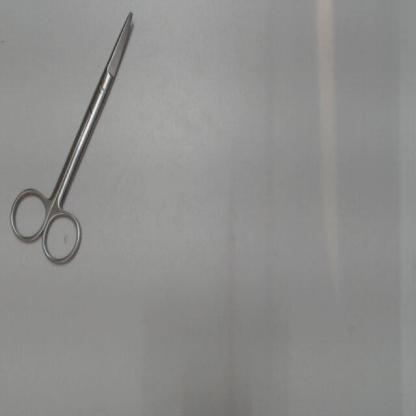Curved Mayo Scissors: (6, 7, 138, 273)
